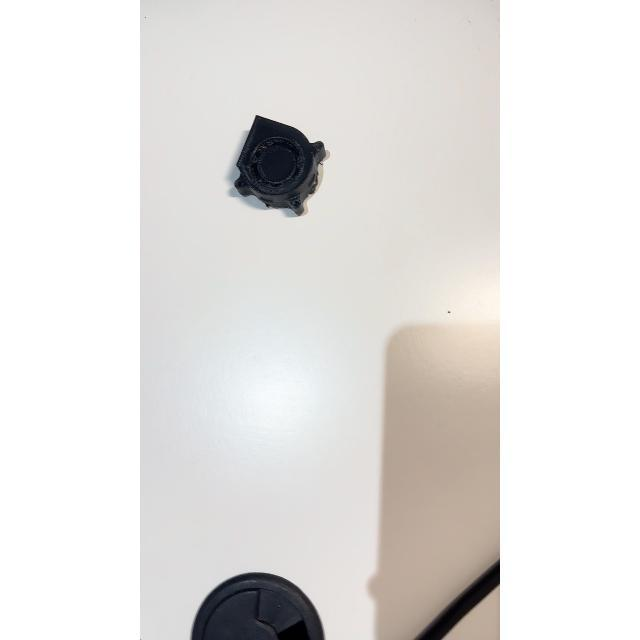Pieza3: (228, 110, 338, 220)
